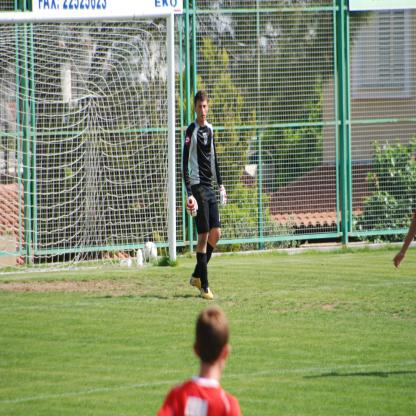Ball: (144, 242, 156, 264)
